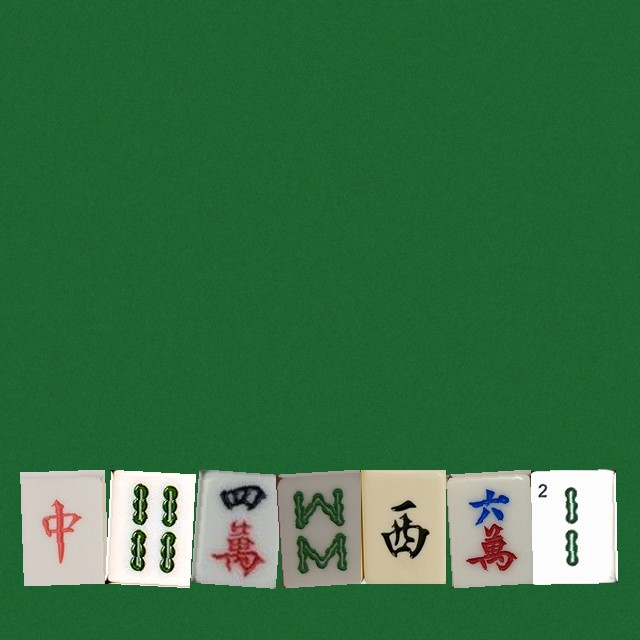tile: (20, 469, 105, 583), (105, 469, 190, 583), (190, 469, 275, 583), (275, 469, 360, 583), (360, 469, 445, 583), (445, 469, 530, 583), (530, 469, 615, 583)
